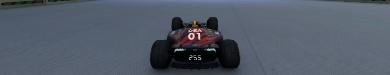Car: (149, 16, 240, 69)
obstacles-Borders: (0, 0, 97, 8)
